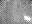person: (24, 15, 31, 22)
